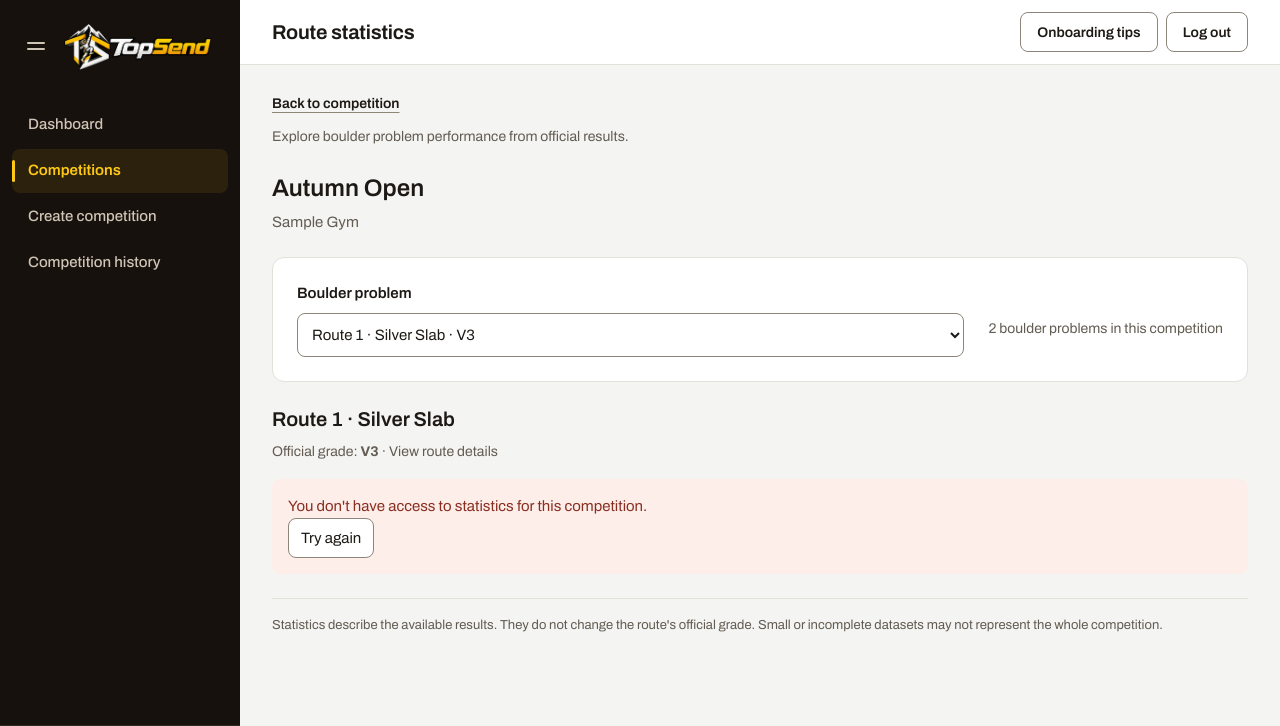
shows a safe scoped error then recovers on retry
Expected: the text "You don't have access to statistics for this competition." is shown, [288,498,647,514]
Click the button "Try again" at (331, 538), box [288,518,374,558]
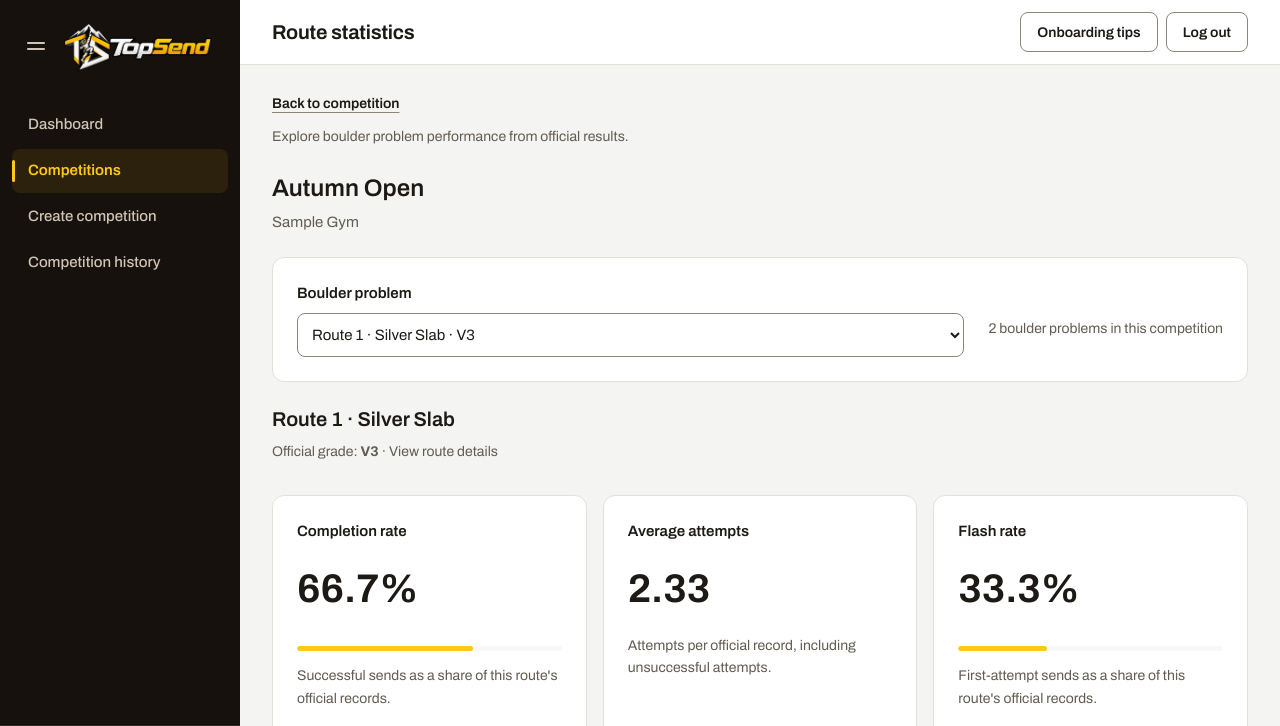
Result: the text named "Completion rate" is shown at [297,644,562,654]
